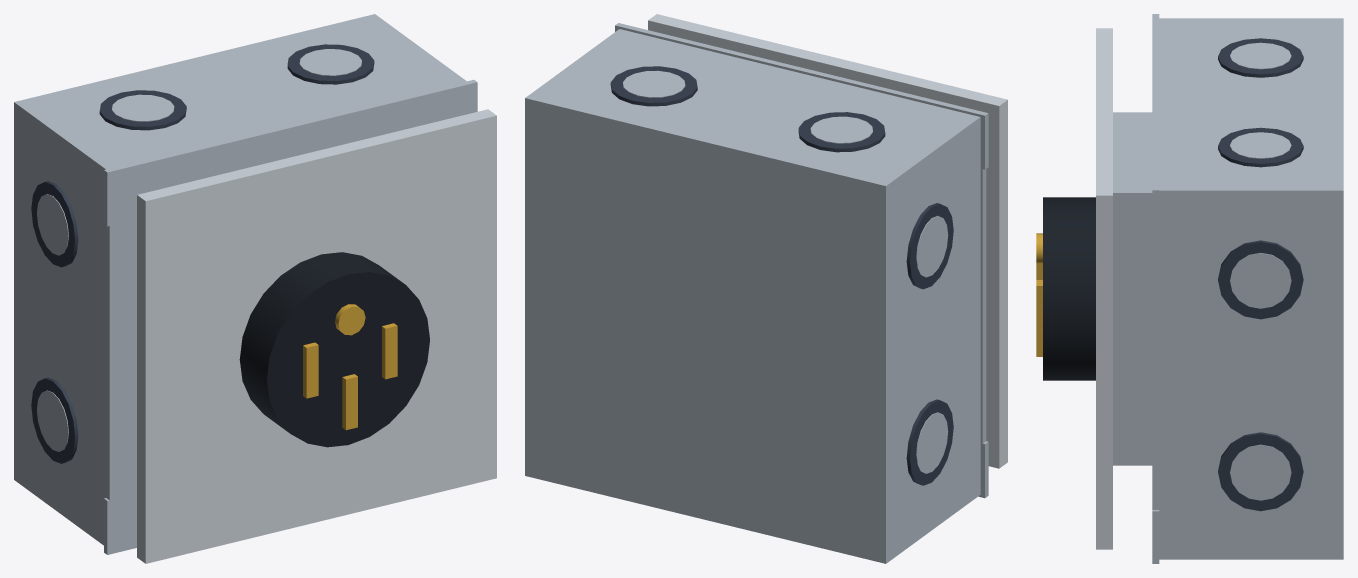
The picture shows the model from 3 angles, left to right: view 1: azimuth 30°, elevation 25°; view 2: azimuth 150°, elevation 25°; view 3: azimuth 270°, elevation 25°; orthographic projection. The views are drawn at different scales.
Parts seen in each view (by area): view 1: cad-device-dedicated-240v, cad-box-4-11-16-2.125; view 2: cad-box-4-11-16-2.125, cad-device-dedicated-240v; view 3: cad-box-4-11-16-2.125, cad-device-dedicated-240v.
Boxes of the visible parts, bbox=[...] form: cad-device-dedicated-240v: bbox=[137, 109, 496, 563]; cad-box-4-11-16-2.125: bbox=[14, 14, 477, 554]; cad-box-4-11-16-2.125: bbox=[525, 23, 988, 563]; cad-device-dedicated-240v: bbox=[648, 14, 1007, 468]; cad-box-4-11-16-2.125: bbox=[1113, 14, 1343, 563]; cad-device-dedicated-240v: bbox=[1036, 28, 1112, 549].
Bounding box in the file's own units: 0.1221 × 0.1217 × 0.09.
